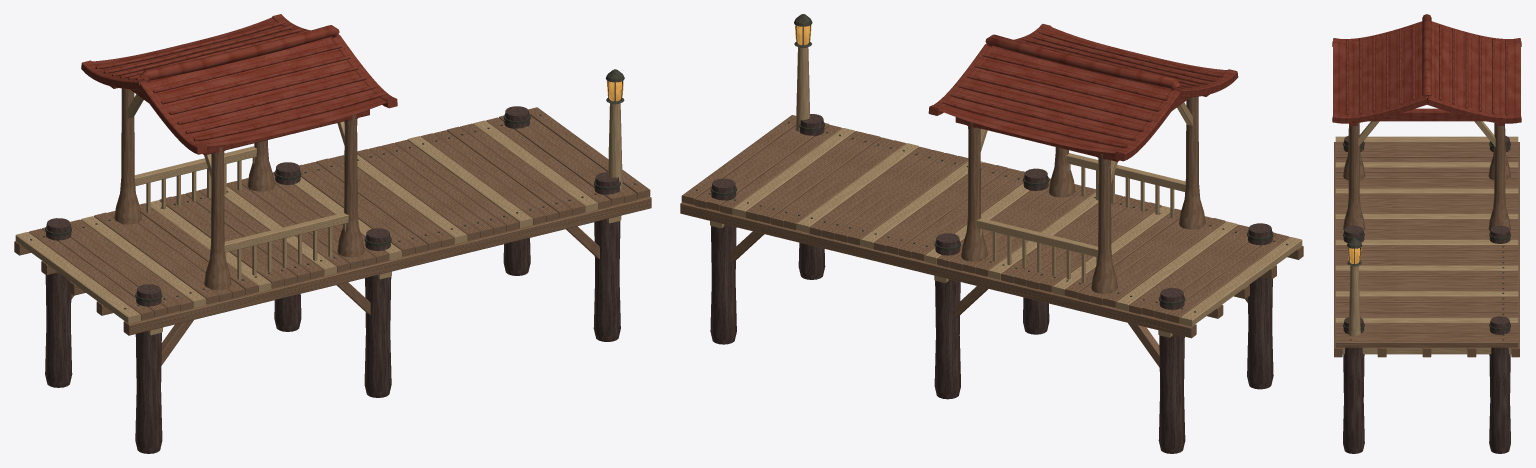
The model's file is fuji_boat_pier.glb.
3 views of the same model, side by side, from view 1: azimuth 30°, elevation 25°; view 2: azimuth 150°, elevation 25°; view 3: azimuth 270°, elevation 25° (orthographic). The views are drawn at different scales.
Visible parts, largest first — view 1: fuji_boat_pier; view 2: fuji_boat_pier; view 3: fuji_boat_pier.
Boxes of the visible parts, box(x1,y1,x2,y2) form: fuji_boat_pier: box(14, 14, 651, 453); fuji_boat_pier: box(680, 14, 1303, 453); fuji_boat_pier: box(1332, 14, 1521, 453).
Bounding box in the file's own units: 6.2 × 3.8 × 2.4.
Materials: 2 (2 with a texture image).
